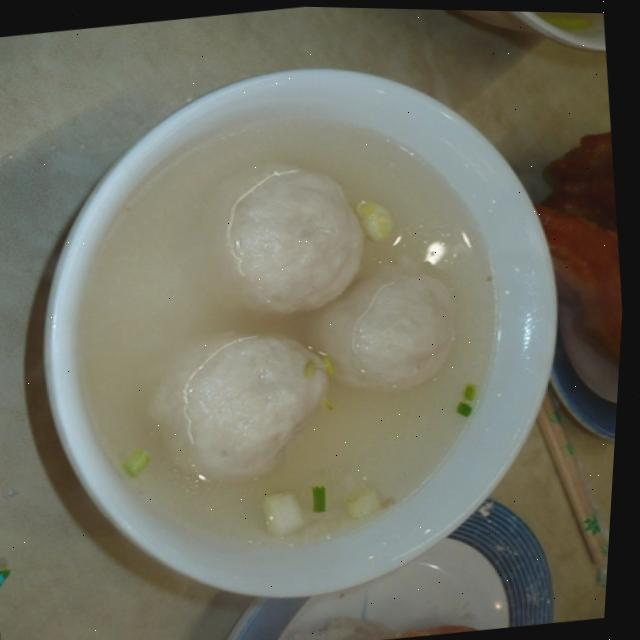熟制海鲜: (28, 58, 575, 582)
